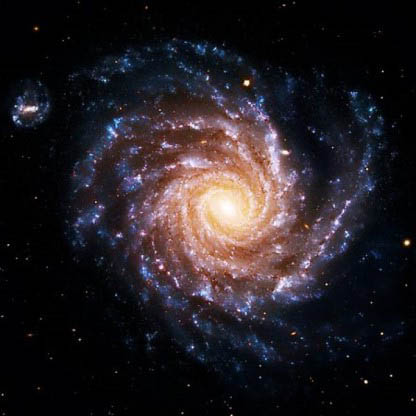NGC 1232: (14, 32, 393, 371)
